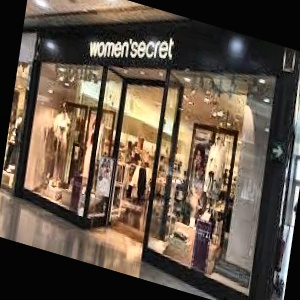women_secret: (106, 31, 258, 95)
